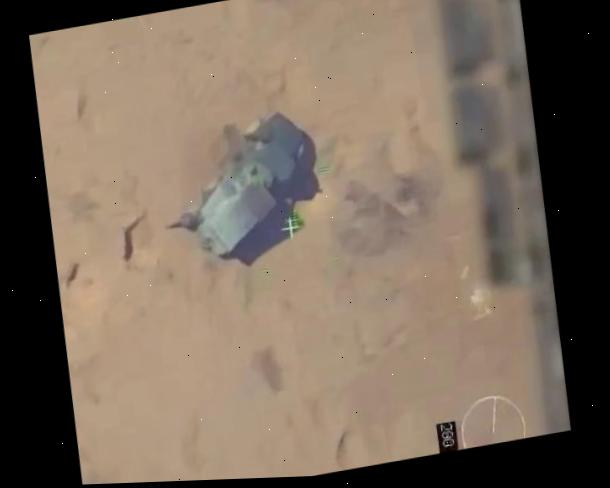person: (163, 206, 205, 235)
rszo: (176, 105, 320, 259)
